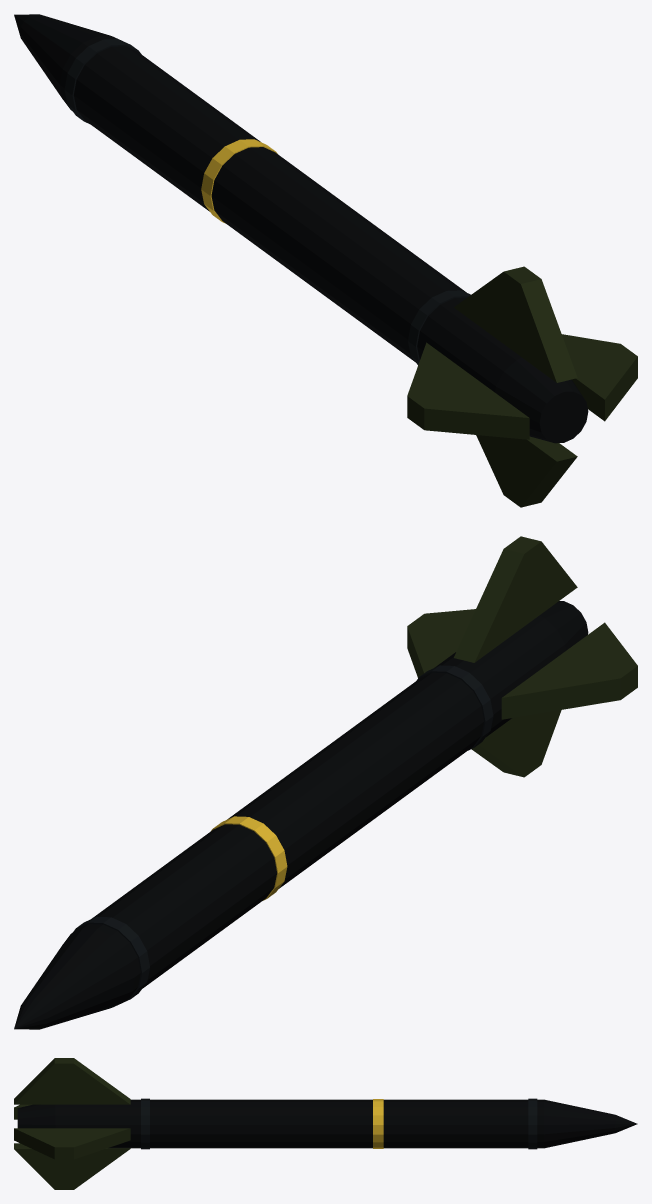
Rendered from MissileATQuad__Missile_2.obj.
3 renders of one model, top to bottom at view 1: azimuth 30°, elevation 25°; view 2: azimuth 150°, elevation 25°; view 3: azimuth 270°, elevation 25°, orthographic. The views are drawn at different scales.
Parts seen in each view (by area): view 1: AT2_body, AT2_tail_fin.001, AT2_tail_fin.002, AT2_tail_fin.003, AT2_tail_fin, Identification_band.001, AT2_guidance_collar.001, AT2_guidance_collar; view 2: AT2_body, AT2_tail_fin.001, AT2_tail_fin.002, AT2_tail_fin.003, AT2_tail_fin, Identification_band.001, AT2_guidance_collar.001, AT2_guidance_collar; view 3: AT2_body, AT2_tail_fin.001, AT2_tail_fin, AT2_tail_fin.003, Identification_band.001, AT2_guidance_collar.001, AT2_guidance_collar.
Part boxes in pixels (box(x1,y1,x2,y2)): AT2_body: box(14, 14, 588, 443); AT2_tail_fin.001: box(454, 266, 577, 382); AT2_tail_fin.002: box(407, 342, 529, 439); AT2_tail_fin.003: box(476, 435, 577, 507); AT2_tail_fin: box(562, 334, 637, 421); Identification_band.001: box(201, 139, 277, 223); AT2_guidance_collar.001: box(64, 39, 141, 123); AT2_guidance_collar: box(408, 290, 470, 365); AT2_body: box(14, 601, 588, 1029); AT2_tail_fin.001: box(454, 536, 577, 662); AT2_tail_fin.002: box(501, 622, 637, 719); AT2_tail_fin.003: box(471, 710, 561, 777); AT2_tail_fin: box(407, 609, 475, 677); Identification_band.001: box(211, 816, 287, 900); AT2_guidance_collar.001: box(73, 916, 149, 1001); AT2_guidance_collar: box(416, 665, 493, 750); AT2_body: box(17, 1099, 637, 1148); AT2_tail_fin.001: box(14, 1058, 130, 1104); AT2_tail_fin: box(14, 1128, 130, 1159); AT2_tail_fin.003: box(14, 1143, 130, 1189); Identification_band.001: box(373, 1099, 383, 1148); AT2_guidance_collar.001: box(528, 1098, 537, 1149); AT2_guidance_collar: box(141, 1098, 149, 1149).
Bounding box in the file's own units: 0.37 × 0.37 × 1.66.
